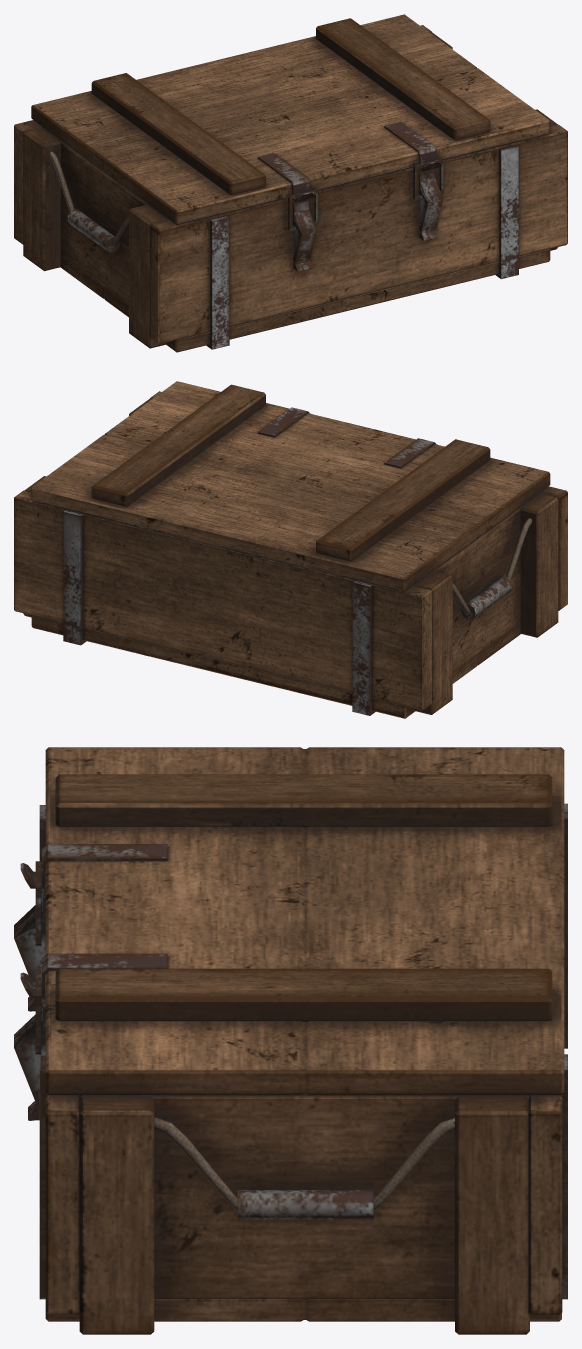
The model's file is crate.glb.
3 views of the same model, one above another, from view 1: azimuth 30°, elevation 25°; view 2: azimuth 150°, elevation 25°; view 3: azimuth 270°, elevation 25° (orthographic). The views are drawn at different scales.
Parts seen in each view (by area): view 1: polySurface12, polySurface14, polySurface19, polySurface30, polySurface4, polySurface8, polySurface32, polySurface34, polySurface27, polySurface29, polySurface3, polySurface24 (+6 smaller); view 2: polySurface12, polySurface3, polySurface4, polySurface19, polySurface30, polySurface8, polySurface34, polySurface32, polySurface27, polySurface29, polySurface14, pCylinder2 (+3 smaller); view 3: polySurface12, polySurface4, polySurface19, polySurface30, polySurface6, polySurface18, polySurface14, polySurface3, polySurface8, pCylinder1, polySurface27, pPlane4 (+5 smaller).
Part boxes in pixels (box(x1,y1,x2,y2)): polySurface12: box(31, 14, 550, 224); polySurface14: box(150, 124, 567, 344); polySurface19: box(316, 18, 490, 140); polySurface30: box(91, 73, 265, 194); polySurface4: box(41, 126, 168, 304); polySurface8: box(60, 249, 550, 352); polySurface32: box(23, 127, 60, 271); polySurface34: box(129, 204, 166, 348); polySurface27: box(496, 145, 518, 279); polySurface29: box(206, 216, 229, 349); polySurface3: box(14, 25, 431, 244); polySurface24: box(419, 178, 443, 240); polySurface12: box(31, 381, 550, 591); polySurface3: box(14, 490, 431, 710); polySurface4: box(413, 493, 539, 671); polySurface19: box(91, 384, 265, 506); polySurface30: box(316, 439, 490, 561); polySurface8: box(31, 615, 521, 718); polySurface34: box(520, 494, 558, 637); polySurface32: box(415, 571, 452, 714); polySurface27: box(63, 511, 86, 645); polySurface29: box(352, 581, 375, 715); polySurface14: box(150, 391, 567, 610); pCylinder2: box(461, 576, 513, 619); polySurface12: box(45, 747, 564, 1094); polySurface4: box(79, 1093, 529, 1299); polySurface19: box(55, 968, 552, 1021); polySurface30: box(55, 774, 552, 827); polySurface6: box(79, 1097, 154, 1334); polySurface18: box(455, 1097, 529, 1334); polySurface14: box(45, 1092, 79, 1314); polySurface3: box(528, 1094, 562, 1314); polySurface8: box(45, 1298, 561, 1321); pCylinder1: box(237, 1190, 373, 1219); polySurface27: box(39, 1054, 567, 1299); pPlane4: box(154, 1117, 454, 1209).
Bounding box in the file's own units: 0.7388 × 0.2718 × 0.4866.
Materials: 1 (1 with a texture image).
